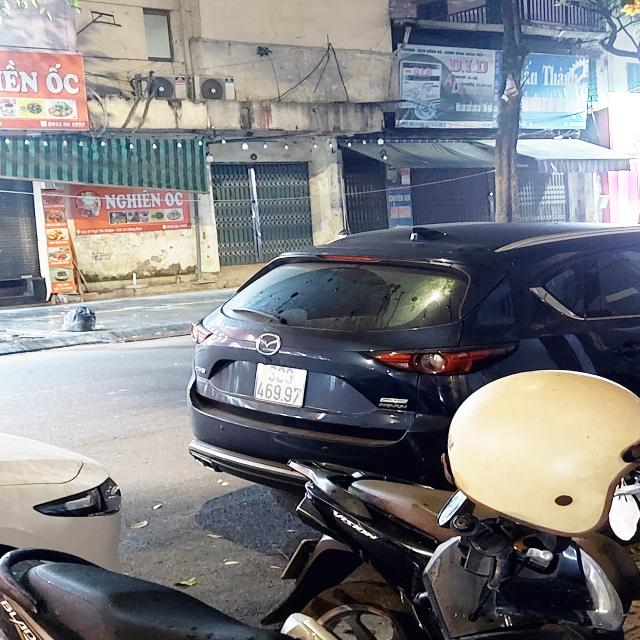license_plate: (251, 360, 316, 411)
